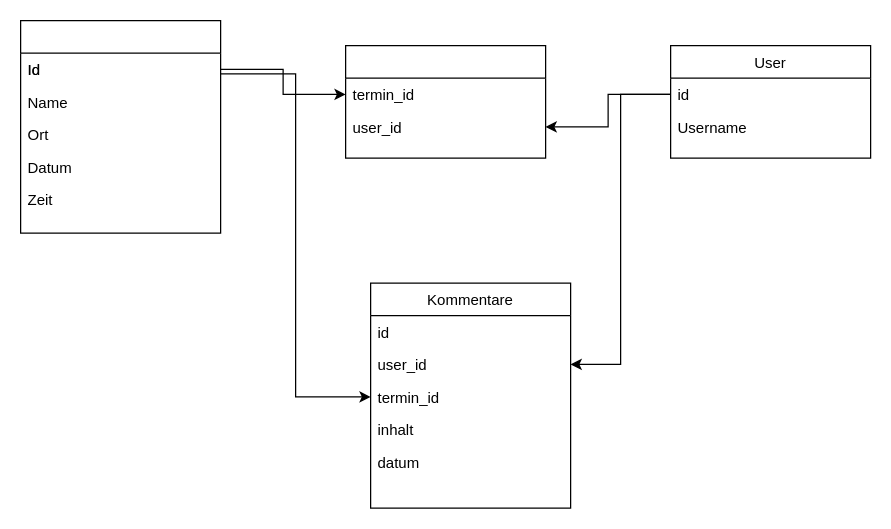
This 891x529 diagram has some shape labels left out. Each missing label, with the box of its shape:
ausgewählte_termine: (344, 44, 546, 158)
Termine: (19, 19, 221, 233)
